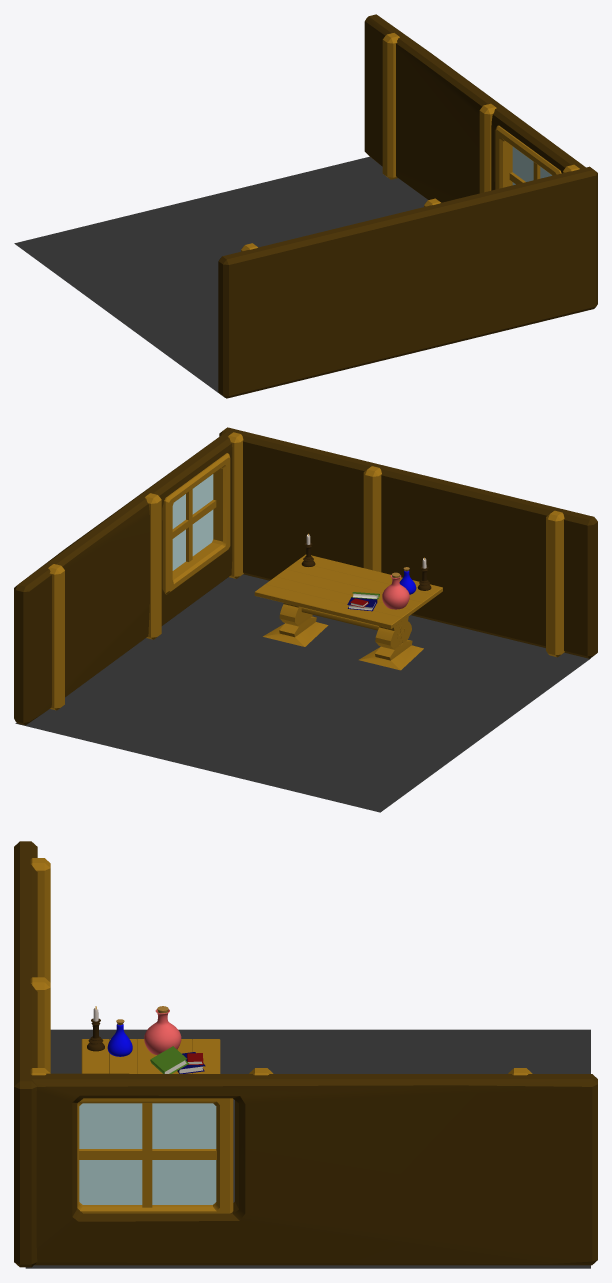
The model's file is try1.fbx.
3 renders of one model, top to bottom at view 1: azimuth 30°, elevation 25°; view 2: azimuth 150°, elevation 25°; view 3: azimuth 270°, elevation 25°, orthographic. The views are drawn at different scales.
Parts seen in each view (by area): view 1: Wall1, Floor, Wall, Beam2, Frame, Beam1, windowGlass; view 2: Floor, Wall1, Wall, Frame, Beam5, windowGlass, Tabletop1, Beam4, Beam2, Beam1, tableleg1, Beam3 (+7 smaller); view 3: Wall, Floor, windowGlass, Wall1, Frame, Divider, Beam5, Beam4, FlaskGlass, Tabletop5, Tabletop1, Book2 (+1 smaller).
Part boxes in pixels (left/top/right/bottom): Wall1: left=218, top=166, right=597, bottom=398; Floor: left=14, top=156, right=428, bottom=397; Wall: left=364, top=14, right=585, bottom=202; Beam2: left=382, top=33, right=399, bottom=179; Frame: left=495, top=125, right=561, bottom=189; Beam1: left=479, top=103, right=496, bottom=193; windowGlass: left=512, top=146, right=551, bottom=185; Floor: left=15, top=574, right=590, bottom=812; Wall1: left=219, top=427, right=597, bottom=658; Wall: left=14, top=431, right=232, bottom=725; Frame: left=162, top=453, right=230, bottom=594; Beam5: left=546, top=510, right=564, bottom=657; windowGlass: left=172, top=474, right=213, bottom=570; Tabletop1: left=254, top=584, right=401, bottom=628; Beam4: left=363, top=466, right=381, bottom=572; Beam2: left=48, top=564, right=64, bottom=710; Beam1: left=144, top=493, right=161, bottom=639; tableleg1: left=359, top=617, right=423, bottom=670; Beam3: left=227, top=432, right=243, bottom=578; Wall: left=32, top=1073, right=597, bottom=1265; Floor: left=25, top=1029, right=590, bottom=1268; windowGlass: left=79, top=1103, right=216, bottom=1204; Wall1: left=14, top=841, right=37, bottom=1267; Frame: left=77, top=1098, right=233, bottom=1213; Divider: left=78, top=1103, right=216, bottom=1207; Beam5: left=30, top=858, right=50, bottom=982; Beam4: left=30, top=977, right=50, bottom=1072; FlaskGlass: left=144, top=1009, right=181, bottom=1055; Tabletop5: left=81, top=1039, right=109, bottom=1073; Tabletop1: left=192, top=1039, right=220, bottom=1073; Book2: left=150, top=1046, right=189, bottom=1073.
Size of the model in its own units: 24.6 by 8.91 by 24.8.
